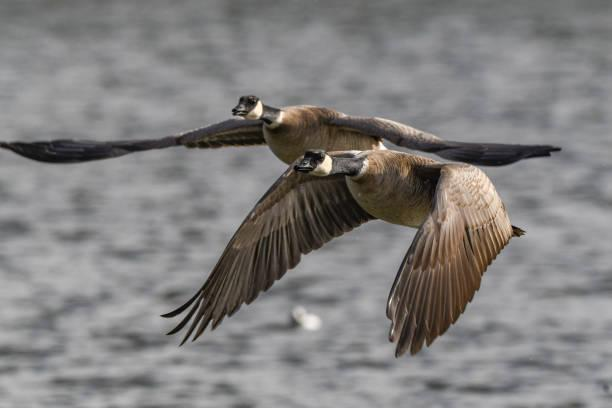Canadian-Goose: (168, 146, 518, 353), (0, 88, 558, 172)
